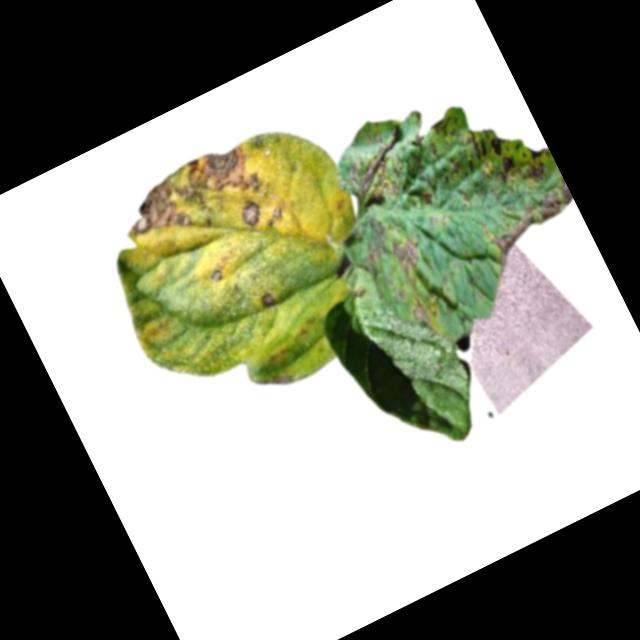Early_blight: (110, 134, 268, 254), (481, 181, 585, 265), (333, 125, 424, 213), (453, 117, 523, 194), (515, 142, 560, 189), (385, 232, 428, 277), (407, 296, 436, 333), (236, 197, 264, 227), (261, 204, 289, 228), (427, 113, 452, 139), (442, 153, 464, 177), (418, 185, 439, 207), (349, 278, 370, 300), (257, 288, 277, 310), (207, 265, 225, 283)
